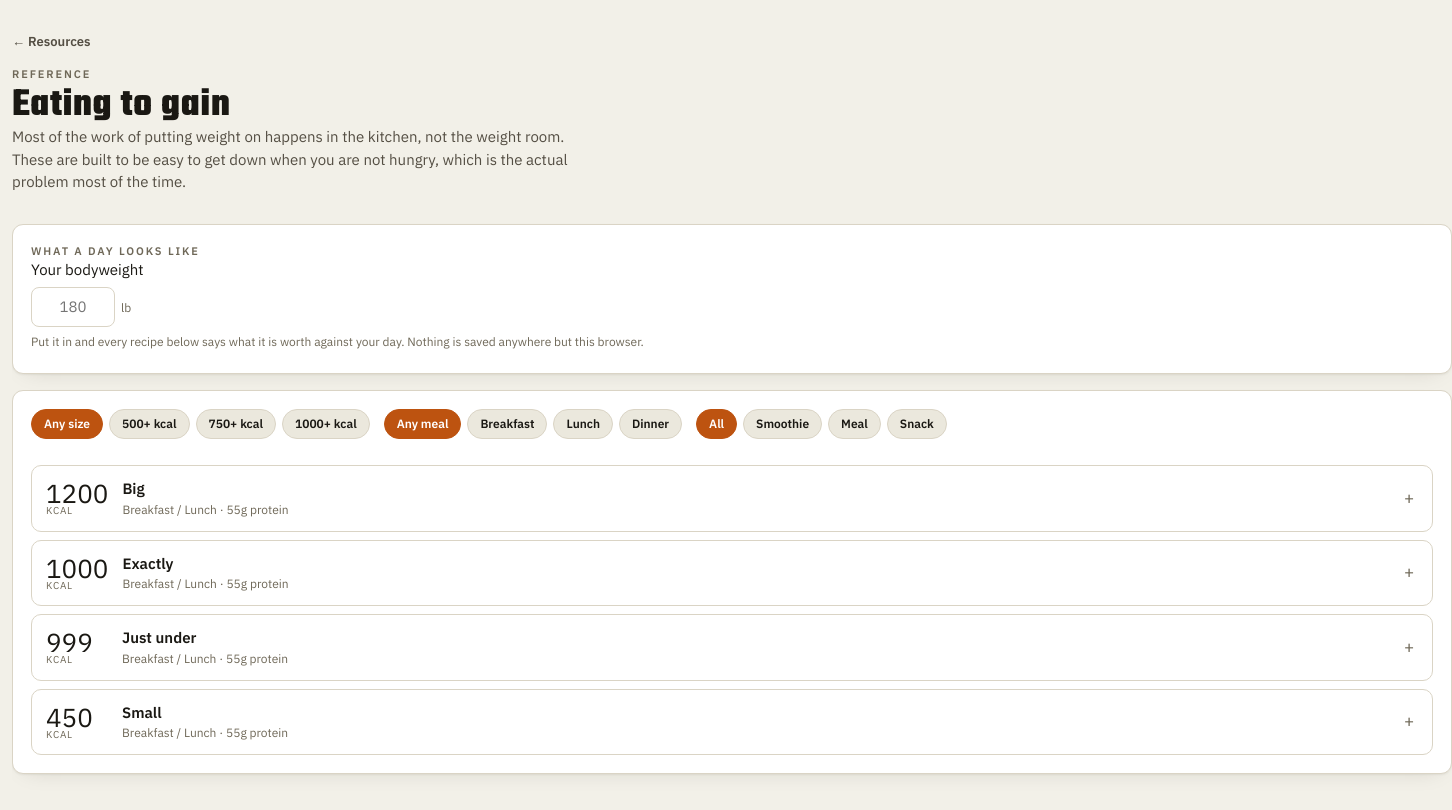
it: filtering by size keeps only what clears it, boundary included
The width and height of the screenshot is (1452, 810).
Click the button "1000+ kcal" at point(326, 424), box [282,409,370,439]
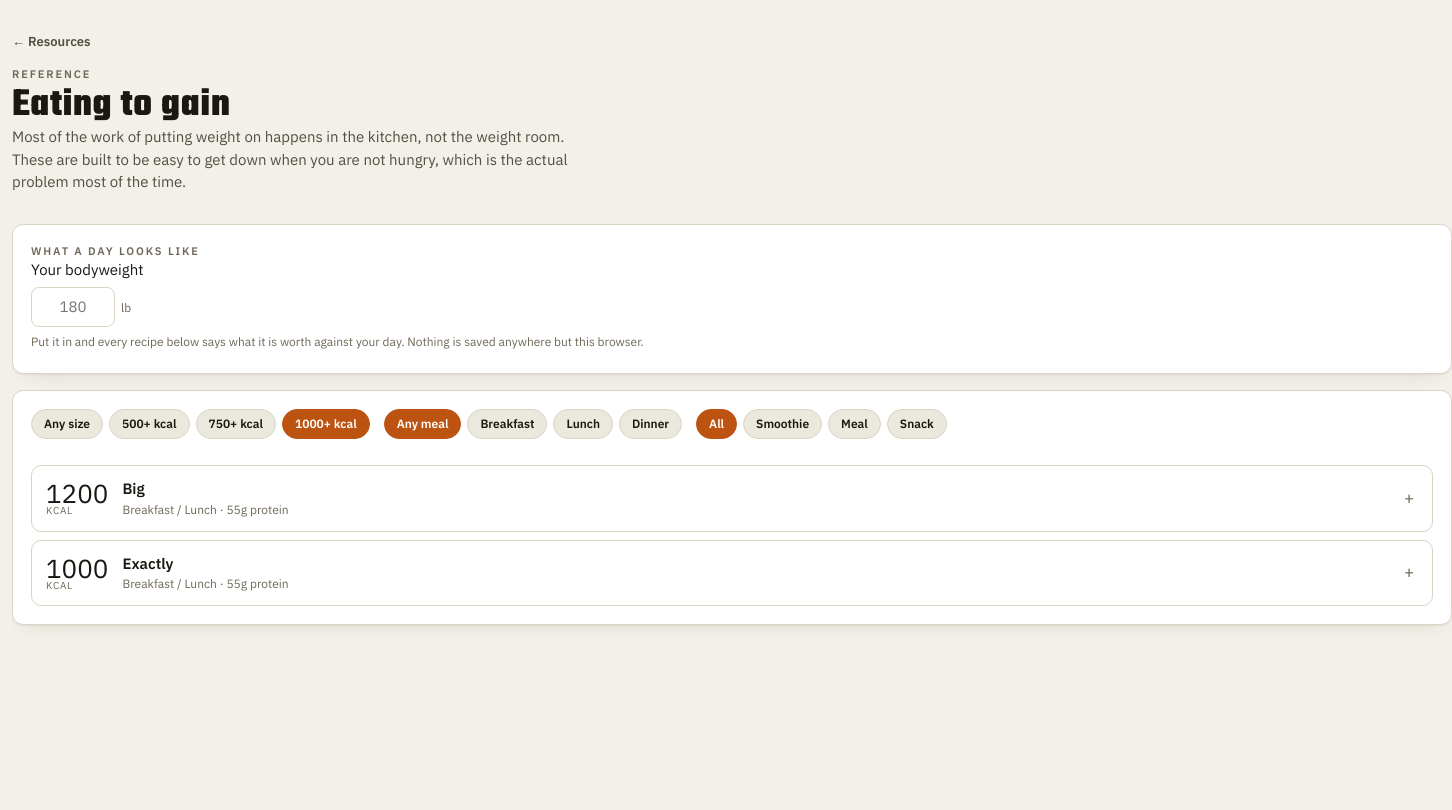
Expected: the text "Big" is shown, [122,479,145,498]
Expected: the button "Just under" is gone
Expected: the button "Small" is gone
